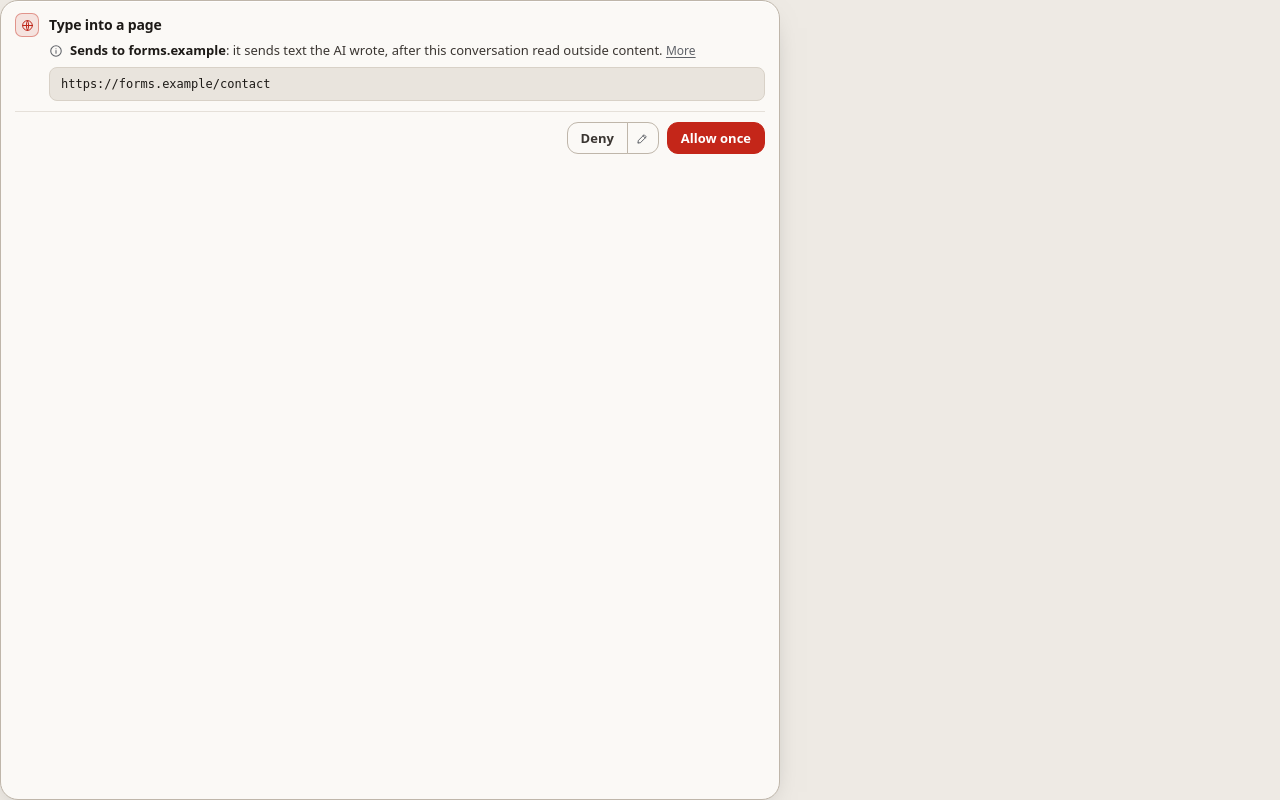
Test: the card that asks › names where the outside content behind the question came from
The image size is (1280, 800).
What coordinates should you click on to do the following:
click the button "More"
I would click on:
 (681, 51)
Its box is [666,42,696,59].
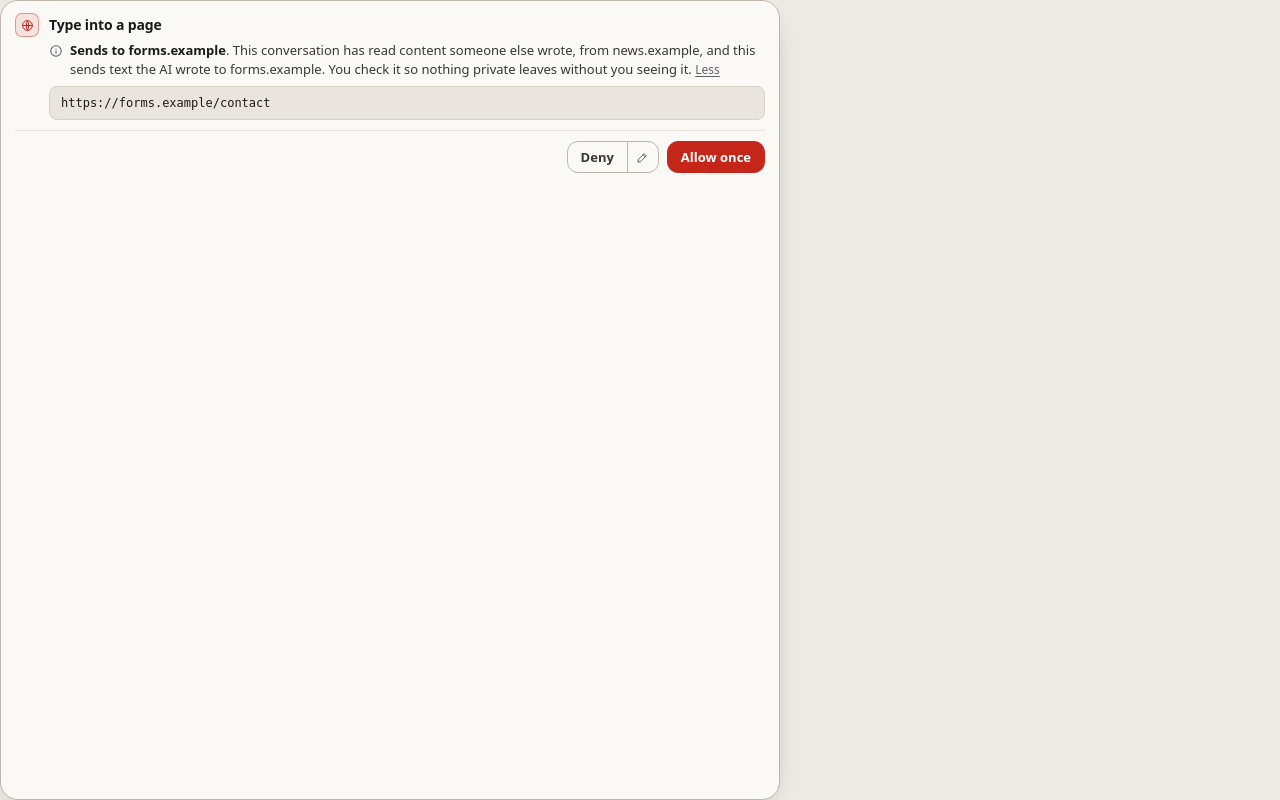
Expected: the element named "Why you’re asked" shows "news.example", [70,41,755,78]
